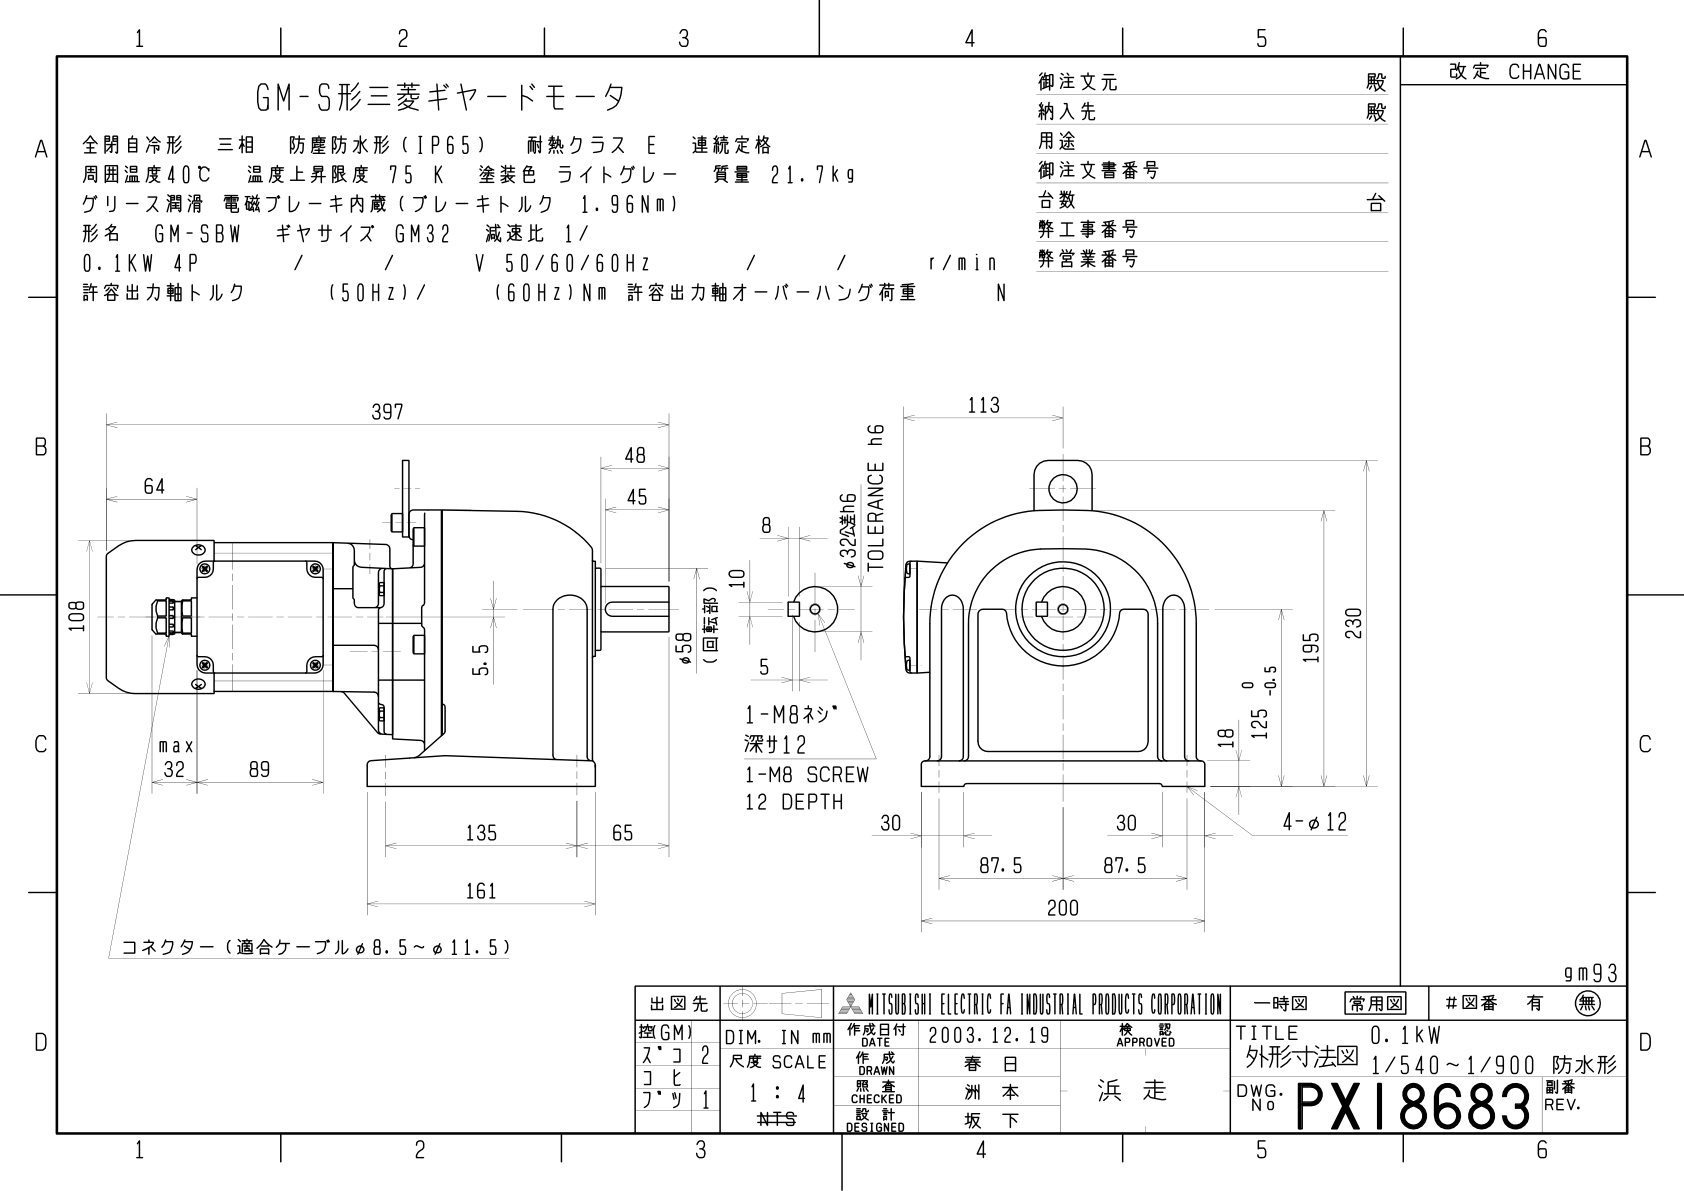GM_S_IP65＿三相_脚: (63, 349, 1389, 965)
